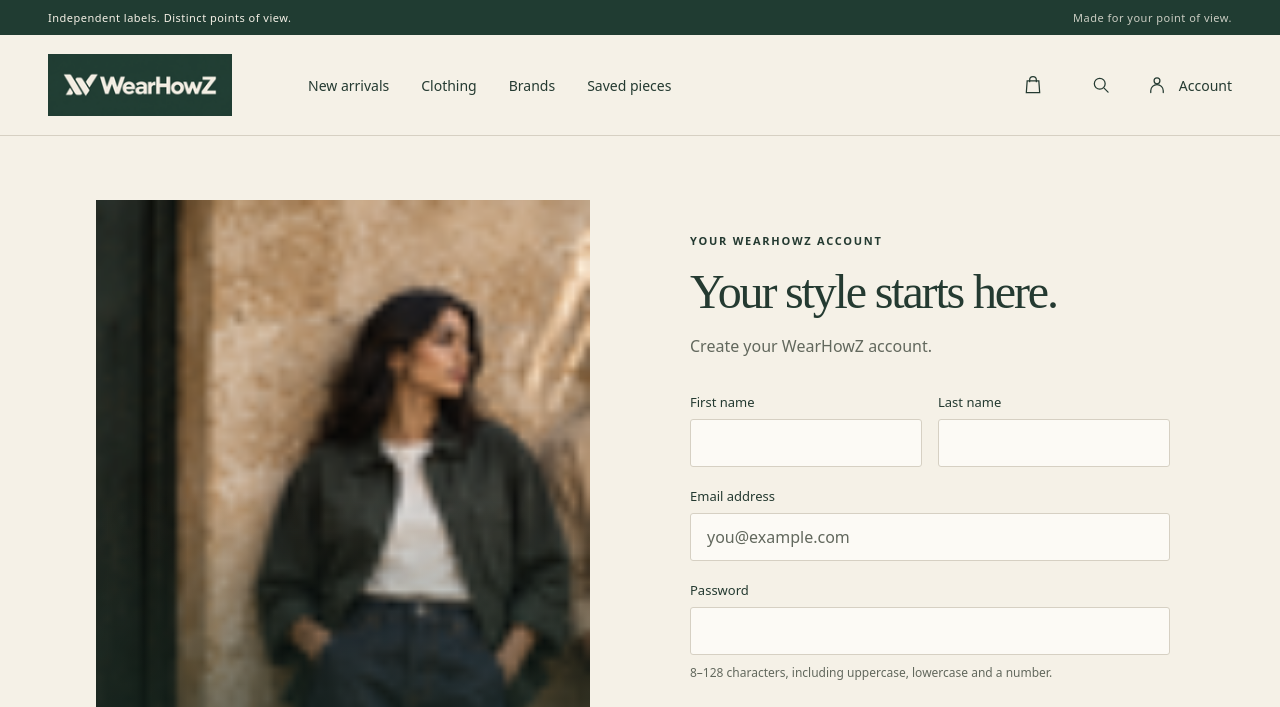
Test: submits registration fields and shows verification instructions, not a fake login
Type "Ayesha" into the field labelled "First name" at (806, 443), box [690,419,922,467]
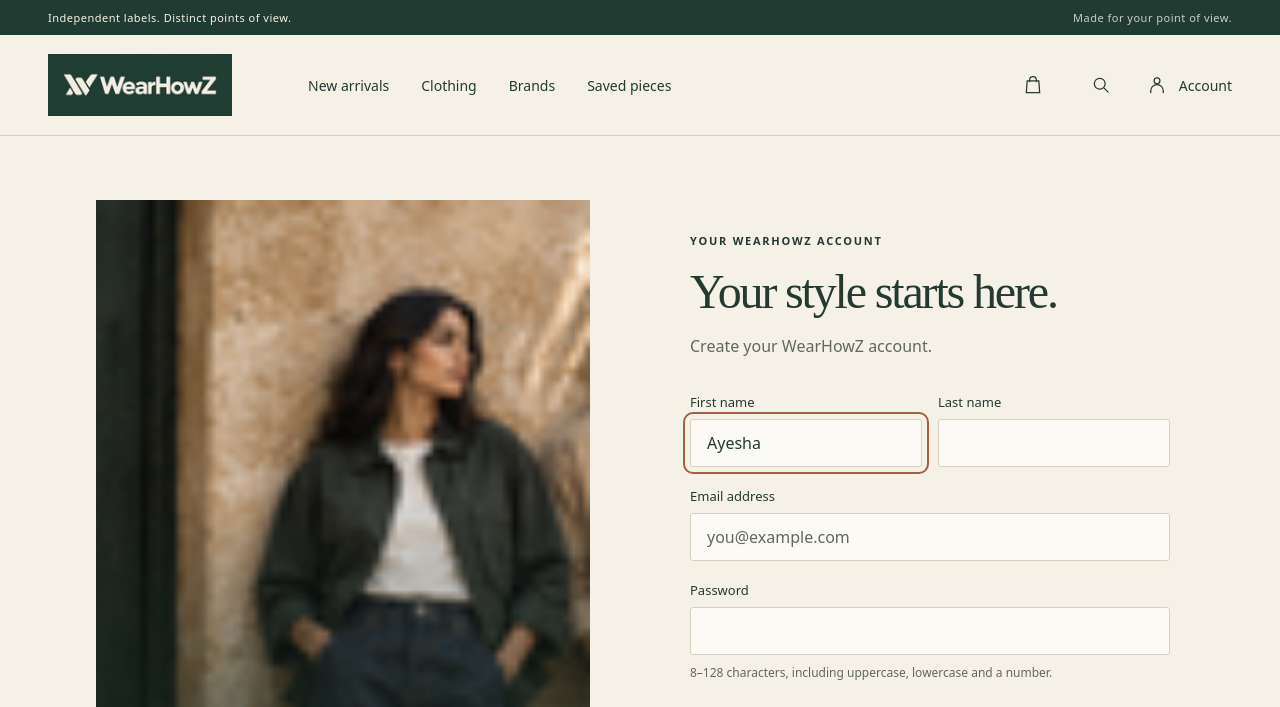
Type "Khan" into the field labelled "Last name" at (1054, 443), box [938,419,1170,467]
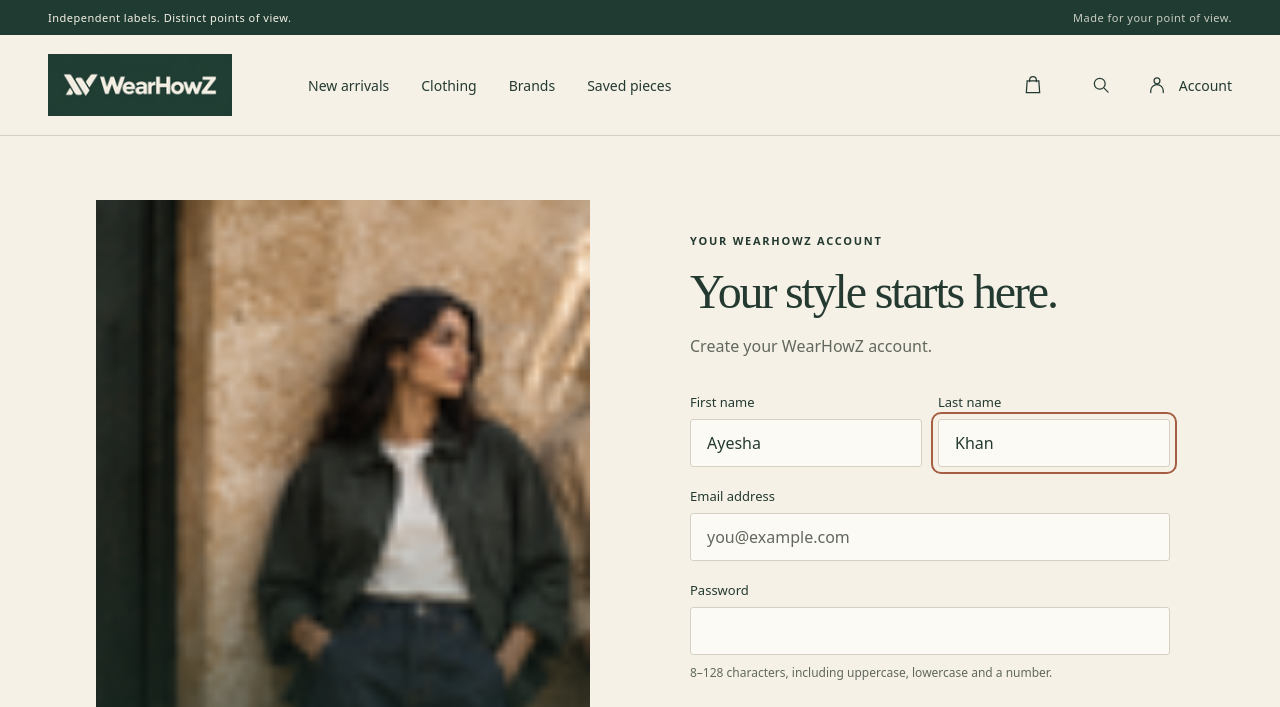
Type "ayesha@example.com" into the field labelled "Email address" at (930, 537), box [690,513,1170,561]
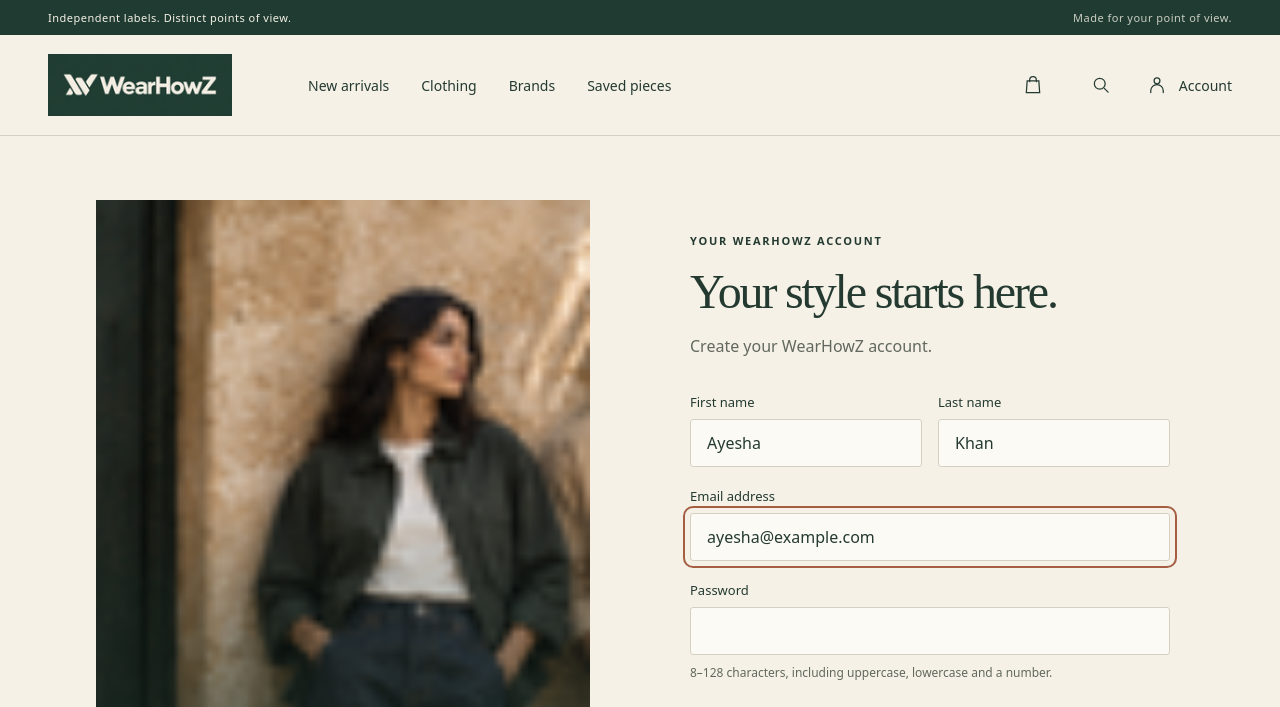
Type "Example123" into the password field labelled "Password" at (930, 631), box [690,607,1170,655]
(page scrolled)
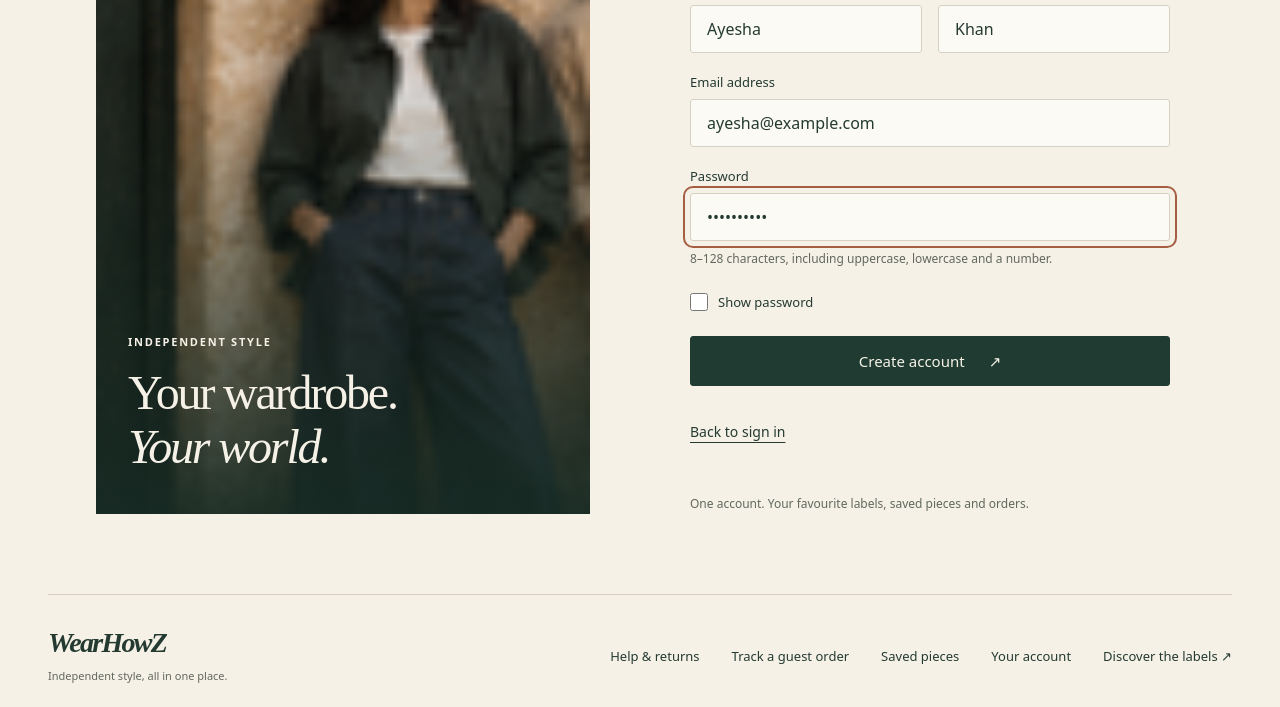
Click the button "Create account ↗" at (930, 361), box [690,336,1170,386]
(page scrolled)
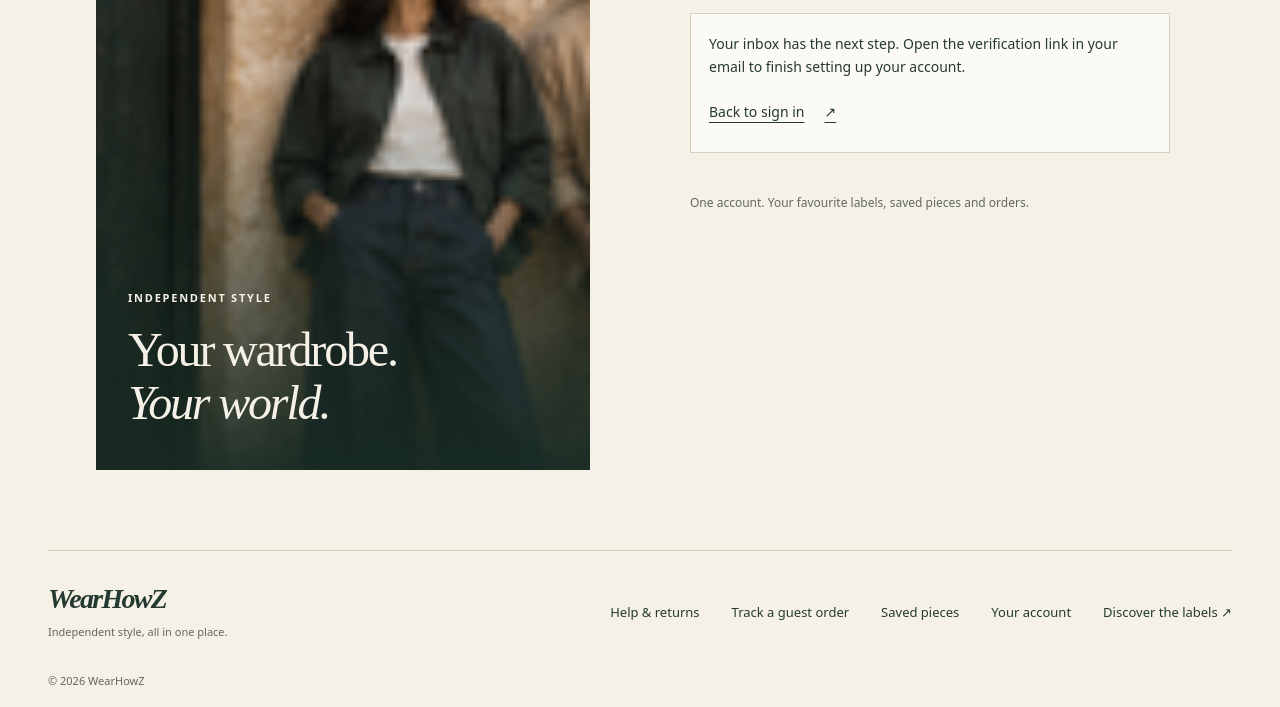
Expected: the text "Your inbox has the next step" is shown, [709,34,1118,76]
